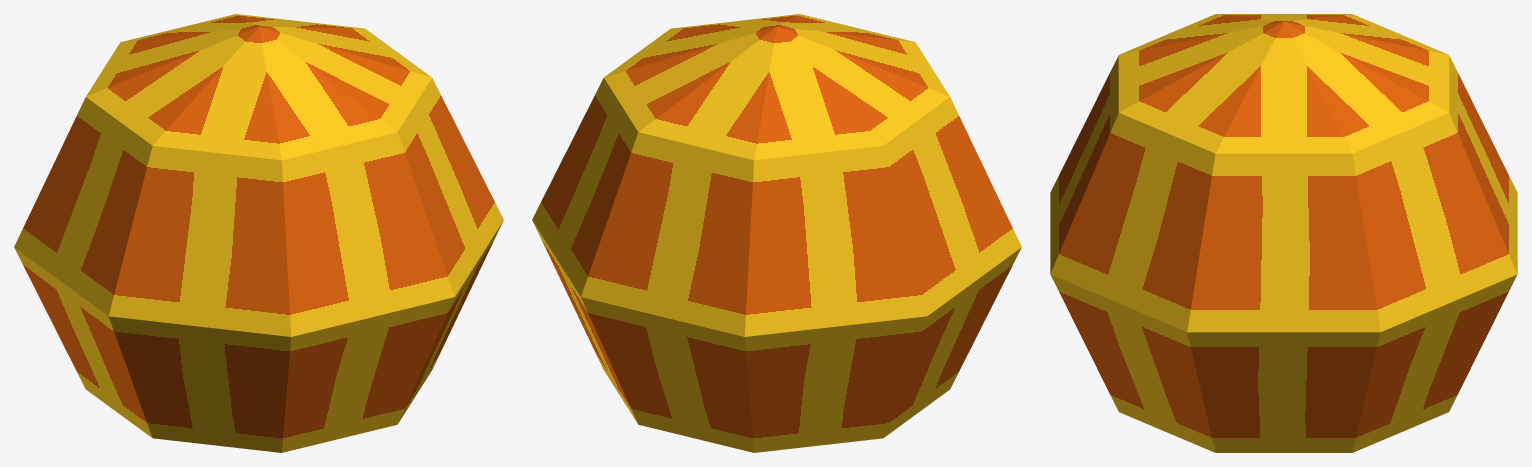
Rendered from Explosion.gltf.
The picture shows the model from 3 angles, left to right: view 1: azimuth 30°, elevation 25°; view 2: azimuth 150°, elevation 25°; view 3: azimuth 270°, elevation 25°; orthographic projection. The views are drawn at different scales.
Parts seen in each view (by area): view 1: sphere; view 2: sphere; view 3: sphere.
Part boxes in pixels (<box>): sphere: <box>14,14,503,452</box>; sphere: <box>532,14,1021,452</box>; sphere: <box>1050,14,1517,452</box>.
Size of the model in its own units: 1 by 1 by 1.
1 material, 1 textured.
